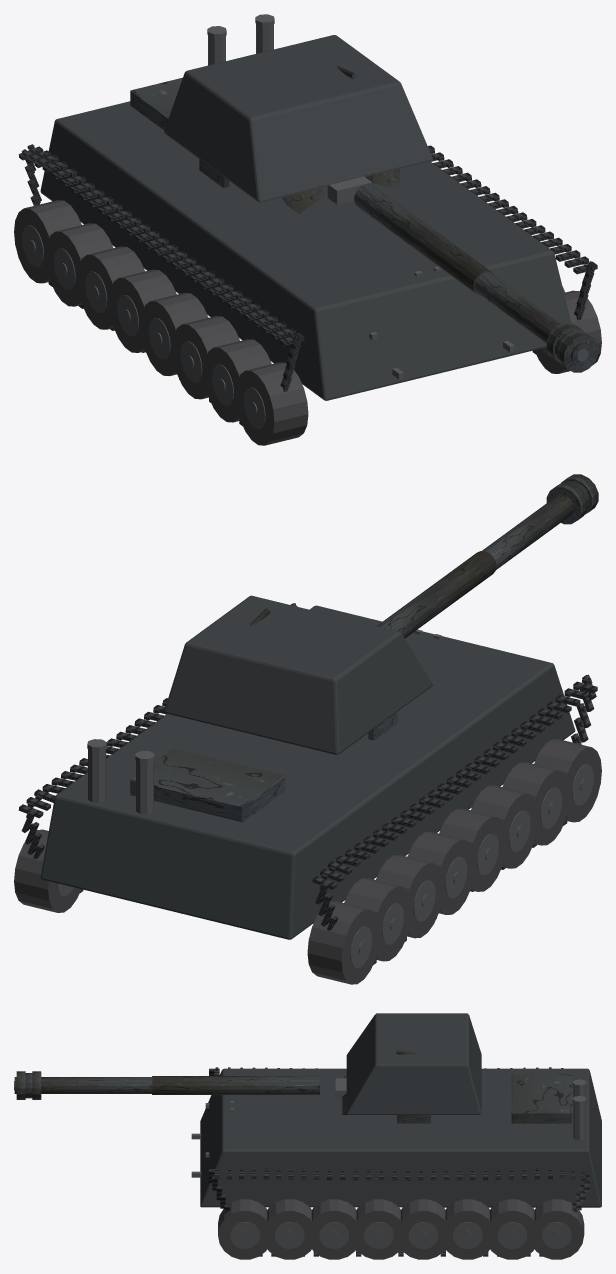
The model's file is ironwolf_LOD0.glb.
The picture shows the model from 3 angles, top to bottom: view 1: azimuth 30°, elevation 25°; view 2: azimuth 150°, elevation 25°; view 3: azimuth 270°, elevation 25°; orthographic projection. The views are drawn at different scales.
Visible parts, largest first — view 1: HullMesh, TurretMesh, Wheels_L, TrackL, Gun_tube1, TrackR, Gun_tube2, Wheels_R, Gun_brk1; view 2: HullMesh, TurretMesh, Wheels_L, TrackL, Gun_tube1, TrackR, Wheels_R, Gun_tube2, exh1, exh-1, Gun_brk2; view 3: HullMesh, Wheels_R, TurretMesh, Gun_tube1, TrackR, Gun_tube2, exh1.
Part boxes in pixels (x1,y1,x2,y2): HullMesh: [40, 77, 571, 400]; TurretMesh: [164, 35, 432, 213]; Wheels_L: [14, 200, 308, 445]; TrackL: [18, 144, 304, 426]; Gun_tube1: [354, 184, 495, 295]; TrackR: [428, 145, 597, 354]; Gun_tube2: [474, 272, 592, 365]; Wheels_R: [534, 286, 601, 373]; Gun_brk1: [557, 331, 598, 372]; HullMesh: [40, 605, 575, 939]; TurretMesh: [164, 595, 432, 754]; Wheels_L: [307, 739, 601, 984]; TrackL: [312, 674, 597, 964]; Gun_tube1: [377, 551, 496, 638]; TrackR: [18, 603, 297, 893]; Wheels_R: [14, 829, 81, 912]; Gun_tube2: [482, 494, 573, 569]; exh1: [88, 749, 105, 802]; exh-1: [136, 761, 153, 814]; Gun_brk2: [546, 482, 587, 524]; HullMesh: [191, 1068, 601, 1207]; Wheels_R: [218, 1199, 584, 1259]; TurretMesh: [335, 1013, 481, 1123]; Gun_tube1: [152, 1076, 319, 1094]; TrackR: [209, 1168, 589, 1256]; Gun_tube2: [14, 1077, 151, 1093]; exh1: [573, 1103, 585, 1140].
Bounding box in the file's own units: 4.14 × 2.86 × 9.05.
Materials: 5 (3 with a texture image).
